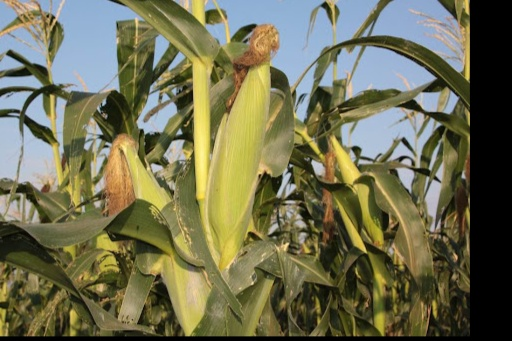corn_plant: (101, 131, 210, 333), (205, 19, 282, 266)
